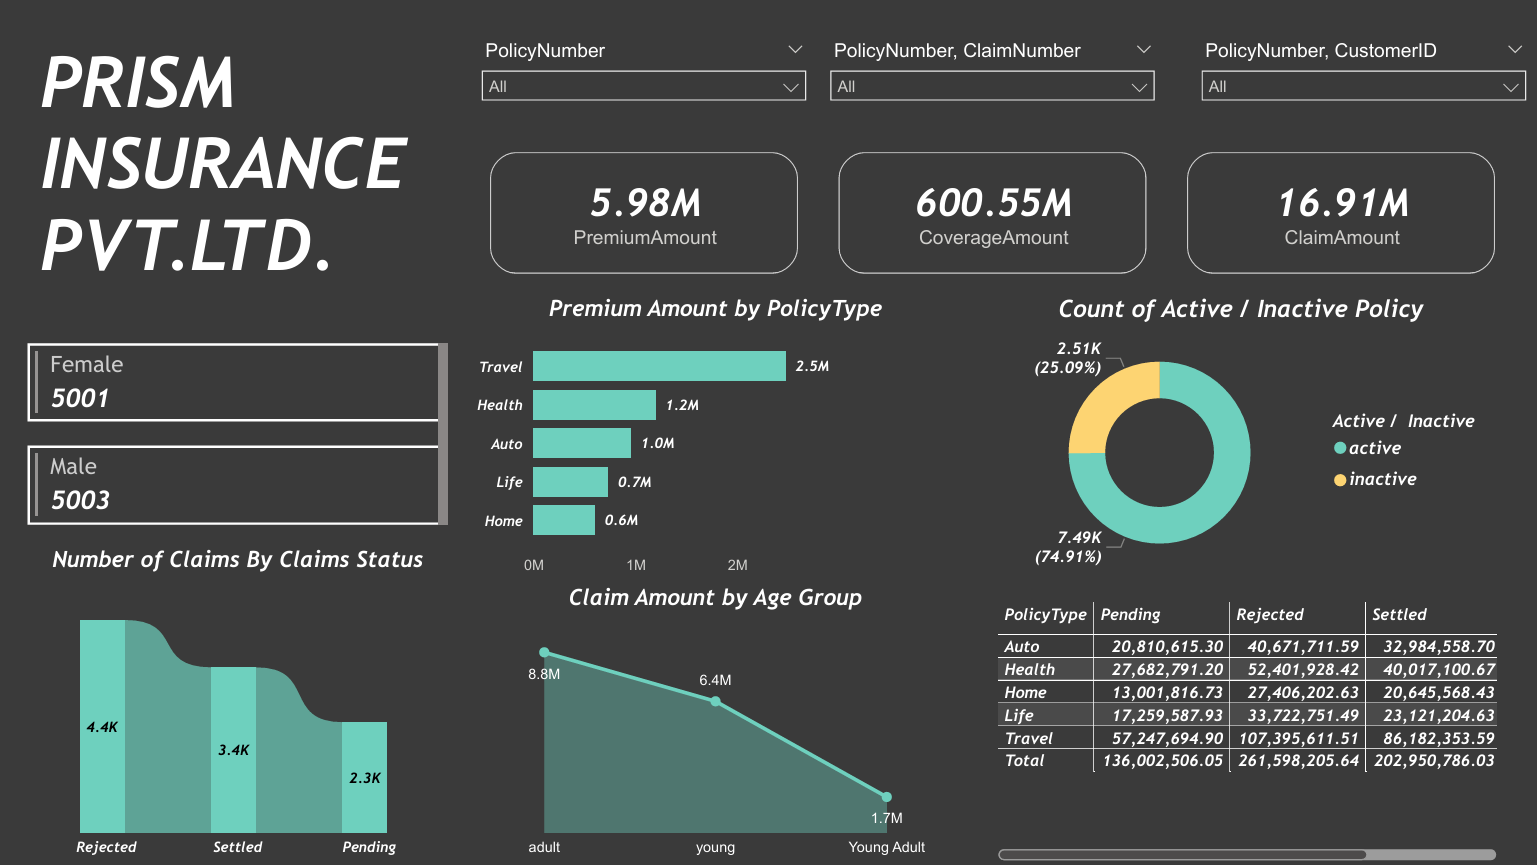

Layout of this report page (visuals, bound fields, positions):
{"tool":"powerbi","page":{"name":"Page 1","canvas":[1280,720],"ordinal":0},"visuals":[{"type":"textbox","box":[27.5,27.5,326.2,252.5],"z":0},{"type":"slicer","fields":{"Values":["InsuranceData.PolicyNumber"]},"box":[391.2,27.5,290,100],"z":1000},{"type":"slicer","fields":{"Values":["InsuranceData.PolicyNumber","InsuranceData.ClaimNumber"]},"box":[681.2,27.5,290,100],"z":2000},{"type":"slicer","fields":{"Values":["InsuranceData.PolicyNumber","InsuranceData.CustomerID"]},"box":[990,27.5,290,100],"z":3000},{"type":"cardVisual","fields":{"Data":["Sum(InsuranceData.PremiumAmount)"]},"box":[391.2,108.8,290,135],"z":4000},{"type":"cardVisual","fields":{"Data":["Sum(InsuranceData.CoverageAmount)"]},"box":[681.2,108.8,290,135],"z":5000},{"type":"cardVisual","fields":{"Data":["Sum(InsuranceData.ClaimAmount)"]},"box":[971.2,108.8,290,135],"z":6000},{"type":"multiRowCard","fields":{"Values":["InsuranceData.Gender","CountNonNull(InsuranceData.Gender)"]},"box":[17.5,280,360,172.5],"z":7000},{"type":"ribbonChart","title":"Number of Claims By Claims Status","fields":{"Category":["InsuranceData.ClaimStatus"],"Y":["CountNonNull(InsuranceData.ClaimStatus)"]},"box":[17.5,452.5,360,267.5],"z":8000},{"type":"barChart","title":"Premium Amount by PolicyType","fields":{"Category":["InsuranceData.PolicyType"],"Y":["Sum(InsuranceData.PremiumAmount)"]},"box":[391.2,243.8,408.8,241.2],"z":8001},{"type":"lineChart","title":"Claim Amount by Age Group","fields":{"Category":["InsuranceData.Age Group"],"Y":["Sum(InsuranceData.ClaimAmount)"]},"box":[391,485,409,235],"z":8002},{"type":"donutChart","title":"Count of Active /  Inactive Policy","fields":{"Category":["InsuranceData.Active /  Inactive"],"Y":["CountNonNull(InsuranceData.Active /  Inactive)"]},"box":[816.2,243.8,433.8,241.2],"z":8003},{"type":"pivotTable","fields":{"Rows":["InsuranceData.PolicyType"],"Values":["Sum(InsuranceData.CoverageAmount)"],"Columns":["InsuranceData.ClaimStatus"]},"box":[826.2,496.2,423.8,223.8],"z":8004}]}

Visuals, with their boxes in screenshot pixels (x1, y1, x2, y2), scaled from the page's 1280x720 canvas onto the 1537x865 screenshot:
textbox: rect(33, 33, 425, 336)
slicer - InsuranceData.PolicyNumber: rect(470, 33, 818, 153)
slicer - InsuranceData.PolicyNumber x InsuranceData.ClaimNumber: rect(818, 33, 1166, 153)
slicer - InsuranceData.PolicyNumber x InsuranceData.CustomerID: rect(1189, 33, 1536, 153)
cardVisual - Sum(InsuranceData.PremiumAmount): rect(470, 131, 818, 293)
cardVisual - Sum(InsuranceData.CoverageAmount): rect(818, 131, 1166, 293)
cardVisual - Sum(InsuranceData.ClaimAmount): rect(1166, 131, 1514, 293)
multiRowCard - InsuranceData.Gender x CountNonNull(InsuranceData.Gender): rect(21, 336, 453, 544)
"Number of Claims By Claims Status" ribbonChart: rect(21, 544, 453, 864)
"Premium Amount by PolicyType" barChart: rect(470, 293, 961, 583)
"Claim Amount by Age Group" lineChart: rect(470, 583, 961, 864)
"Count of Active /  Inactive Policy" donutChart: rect(980, 293, 1501, 583)
pivotTable - InsuranceData.PolicyType x Sum(InsuranceData.CoverageAmount): rect(992, 596, 1501, 864)
